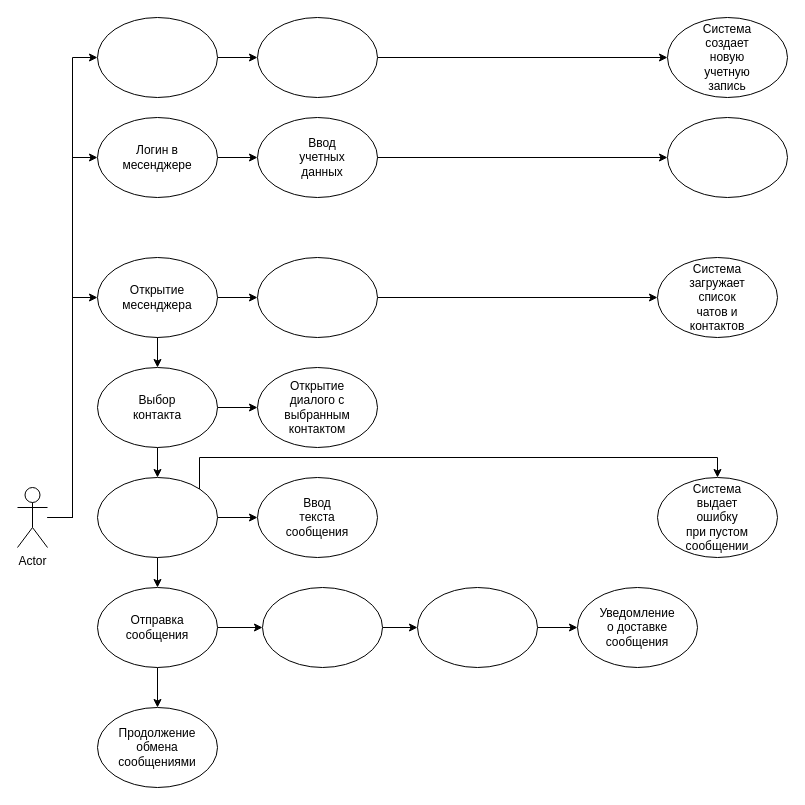
Image size: 805x805. Some labels were removed from this diagram. The shapes that lost their labels are listed below. From the top down, each one's box as (x1, y1, x2, y2) in pixels, then its label:
(96, 16, 218, 98): Регистрация в месенджере
(256, 16, 378, 98): Ввод данных пользователя
(666, 116, 788, 198): Система проверяет данные и разрешает вход
(256, 256, 378, 338): Отображение списка контактов и диалогов
(96, 476, 218, 558): Написание сообщения
(262, 586, 382, 668): Отправка сообщения выбранному контакту
(416, 586, 538, 668): Отображение отправленного сообщения
